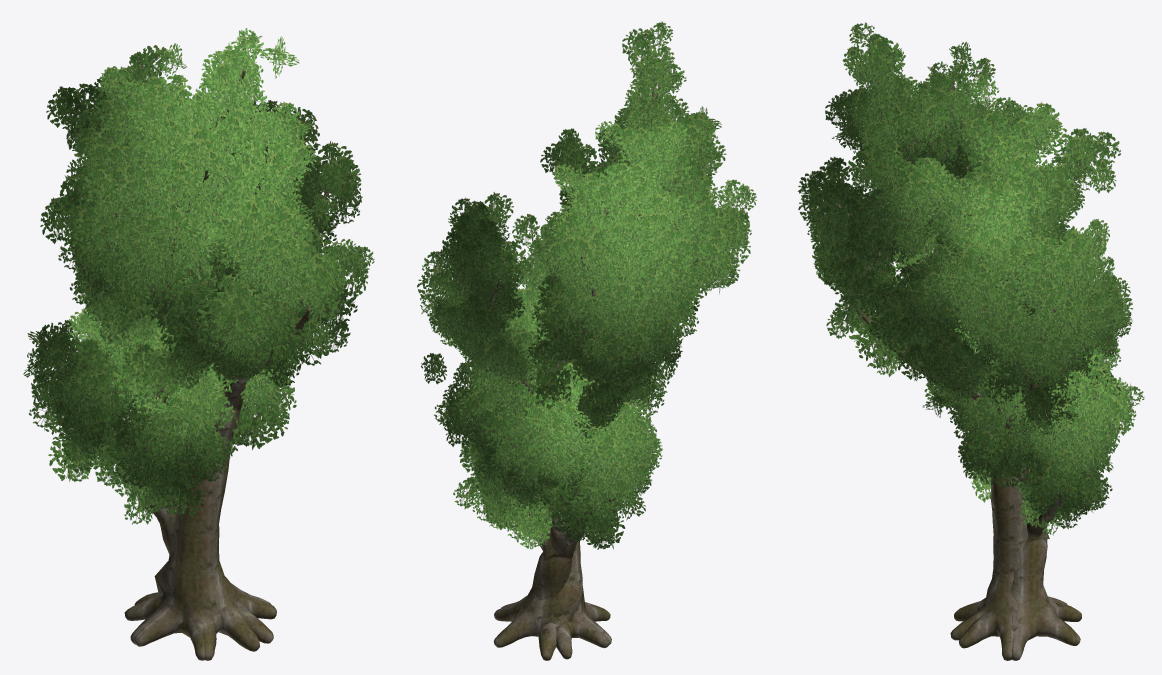
File: tree.glb
The picture shows the model from 3 angles, left to right: view 1: azimuth 30°, elevation 25°; view 2: azimuth 150°, elevation 25°; view 3: azimuth 270°, elevation 25°; orthographic projection. The views are drawn at different scales.
Visible parts, largest first — view 1: great_tree, meadow_tree; view 2: great_tree, meadow_tree; view 3: great_tree, meadow_tree.
Boxes of the visible parts, box(x1,y1,x2,y2) form: great_tree: box(40, 28, 374, 660); meadow_tree: box(23, 278, 296, 660); great_tree: box(417, 21, 756, 660); meadow_tree: box(421, 328, 662, 659); great_tree: box(798, 22, 1133, 660); meadow_tree: box(937, 335, 1144, 660).
Bounding box in the file's own units: 5.98 × 11.77 × 6.34.
Materials: 3 (3 with a texture image).
